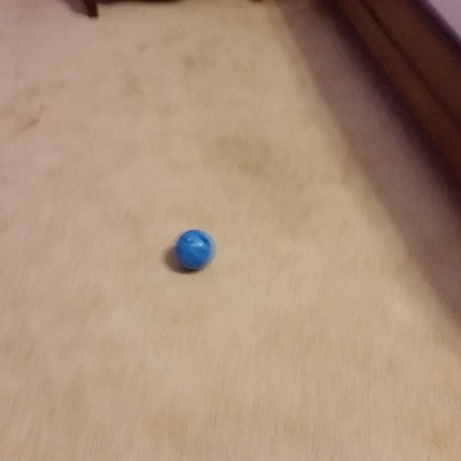blueball: (173, 226, 214, 271)
